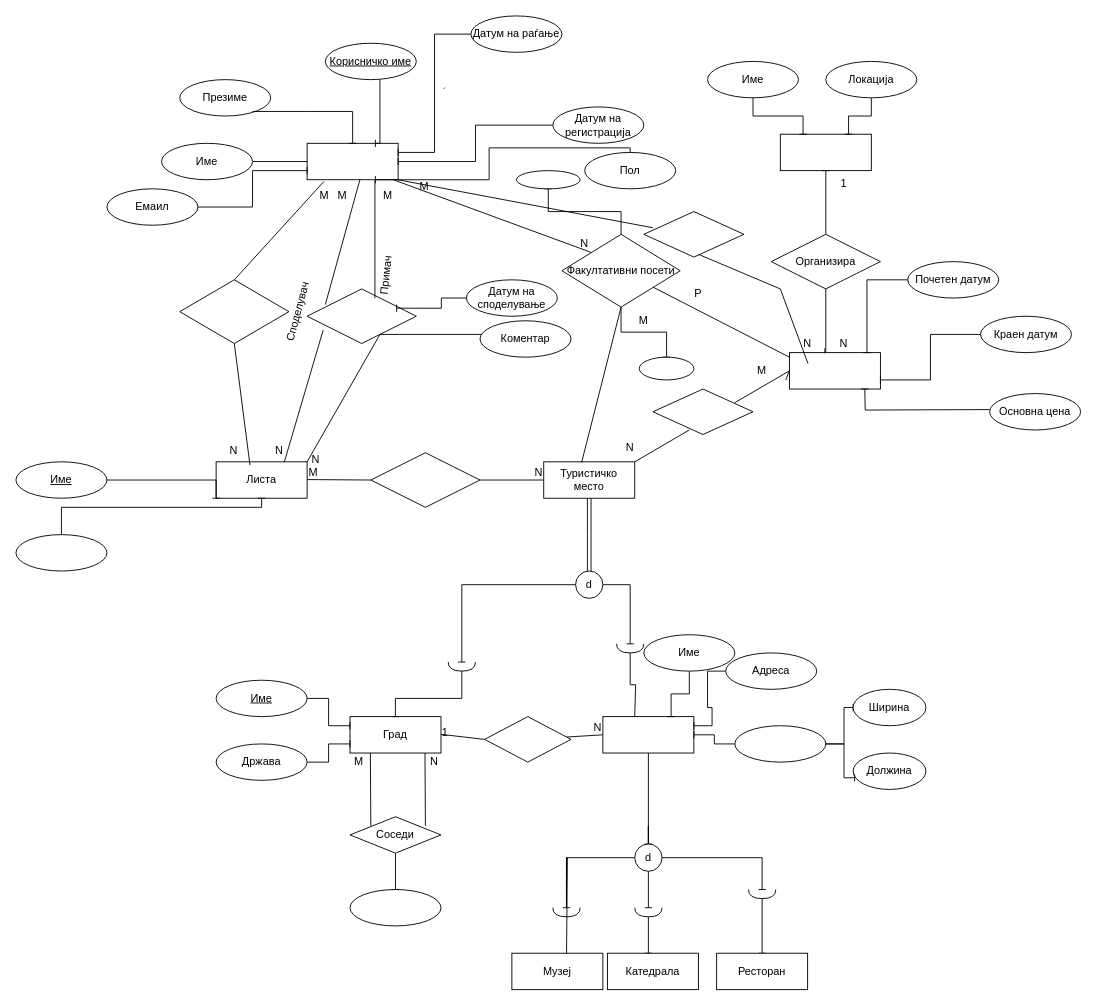
This 1097x1006 diagram has some shape labels left out. Here are the shapes that lost their labels. From the top down, the centre of each, then its label:
At [352,161]: "Корисник".
At [825,152]: "Туристичка агенција".
At [548,179]: "Датум".
At [693,234]: "Присуство".
At [234,311]: "Креира".
At [361,316]: "Споделува".
At [666,368]: "Цена".
At [834,370]: "Патување".
At [702,411]: "Вклучува".
At [425,479]: "Relationship".
At [61,552]: "Датум на креирање".
At [527,739]: "Припаѓа".
At [648,734]: "Објект".
At [780,743]: "Географска локација".
At [395,907]: "Растојание".
